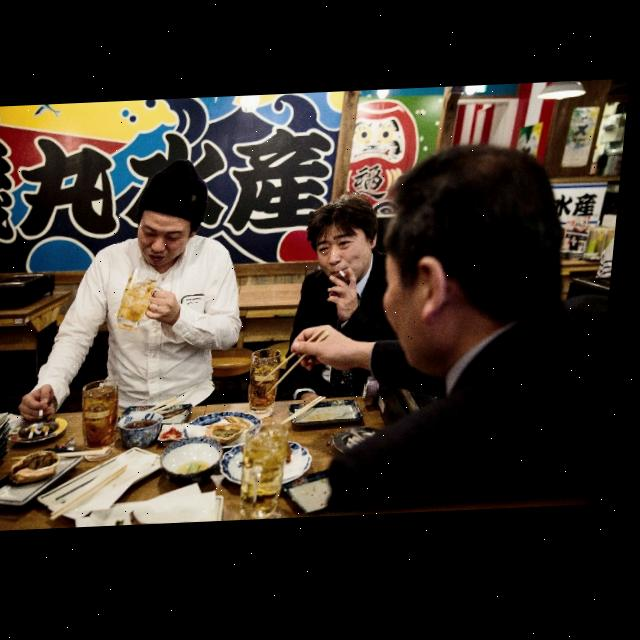cigarette: (47, 403, 52, 420), (37, 427, 43, 440), (344, 273, 352, 281), (53, 429, 59, 437)
